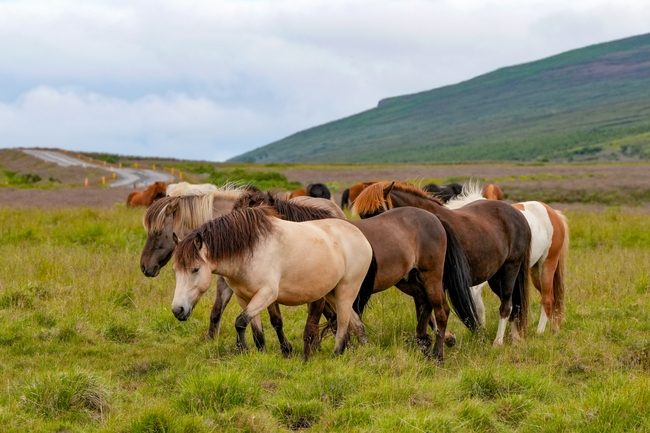horse: (353, 172, 531, 347), (169, 214, 372, 359), (136, 193, 335, 273)
